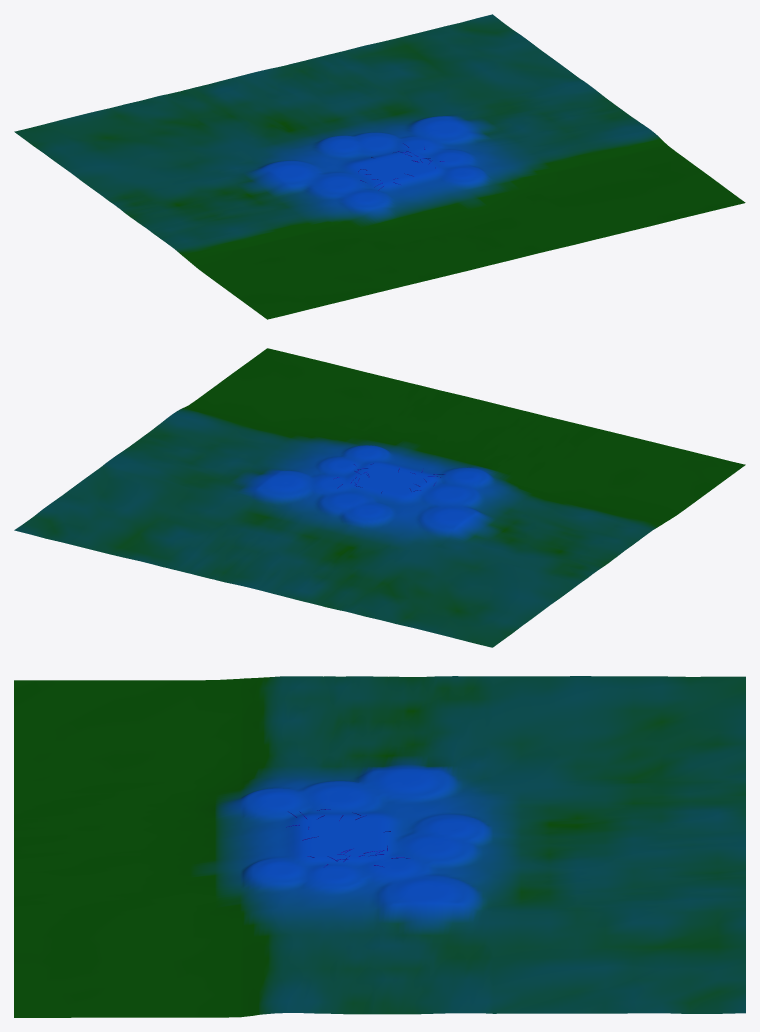
Rendered from fen_bank_ground.glb.
3 renders of one model, top to bottom at view 1: azimuth 30°, elevation 25°; view 2: azimuth 150°, elevation 25°; view 3: azimuth 270°, elevation 25°, orthographic. The views are drawn at different scales.
Parts seen in each view (by area): view 1: fen_bank_ground; view 2: fen_bank_ground; view 3: fen_bank_ground.
Boxes of the visible parts, box(x1,y1,x2,y2) form: fen_bank_ground: box(14, 14, 745, 319); fen_bank_ground: box(14, 348, 745, 647); fen_bank_ground: box(14, 676, 745, 1017).
Size of what is drawn, in the model's own units: 120 by 2.46 by 110.
